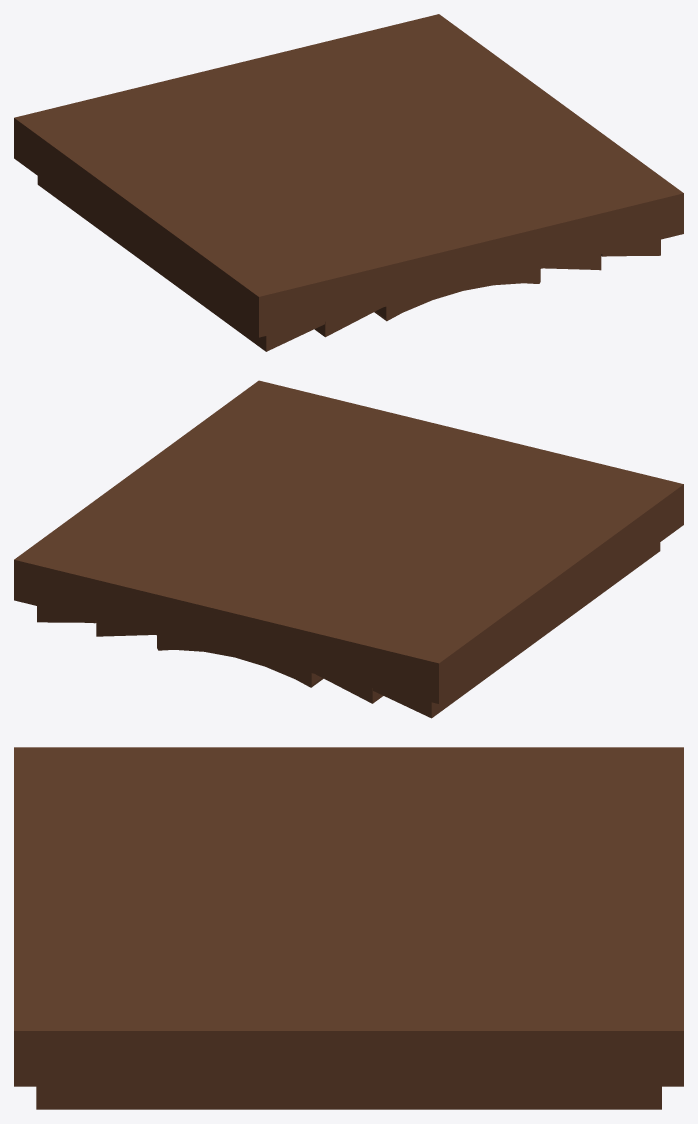
3 views of the same model, one above another, from view 1: azimuth 30°, elevation 25°; view 2: azimuth 150°, elevation 25°; view 3: azimuth 270°, elevation 25° (orthographic). The views are drawn at different scales.
Visible parts, largest first — view 1: MainModel:0; view 2: MainModel:0; view 3: MainModel:0.
Boxes of the visible parts, box(x1,y1,x2,y2) form: MainModel:0: box(14, 14, 683, 351); MainModel:0: box(14, 380, 683, 718); MainModel:0: box(14, 747, 683, 1109).
Size of the model in its own units: 1.66 by 0.2427 by 1.66.
